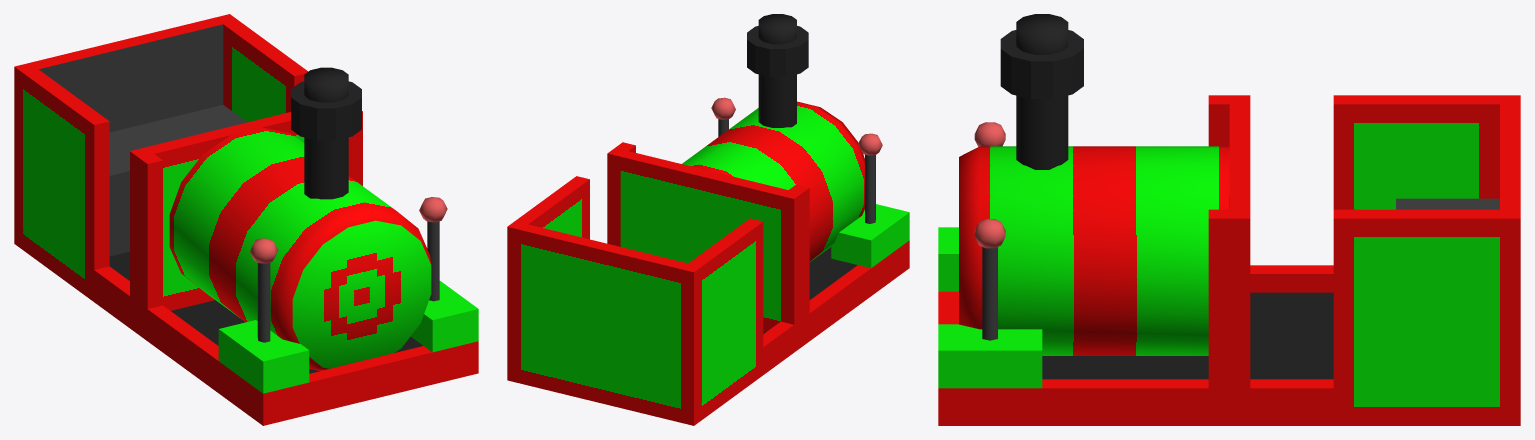
Rendered from car1.glb.
3 views of the same model, side by side, from view 1: azimuth 30°, elevation 25°; view 2: azimuth 150°, elevation 25°; view 3: azimuth 270°, elevation 25° (orthographic). The views are drawn at different scales.
Parts seen in each view (by area): view 1: boiler, back (×3), middle (×3), front, cube (×2), seat-back, footer-front, vent, bottom, base, cylinder (×2), footer-back (+2 smaller); view 2: back (×3), middle (×3), boiler, footer-front, cube, vent, bottom, base, footer-back, top, sphere (×2), cylinder; view 3: back (×3), boiler, middle (×3), footer-front, base, cube (×2), footer-back (×2), vent, bottom, top, cylinder, sphere (×2) (+2 smaller).
Part boxes in pixels (box(x1,y1,x2,y2)): boiler: box(169, 127, 431, 370); back (×3): box(14, 14, 307, 301); middle (×3): box(130, 111, 362, 340); front: box(263, 341, 478, 425); cube (×2): box(218, 281, 478, 393); seat-back: box(109, 105, 246, 256); footer-front: box(147, 305, 263, 425); vent: box(291, 81, 361, 140); bottom: box(304, 137, 348, 199); base: box(109, 251, 422, 373); cylinder (×2): box(257, 221, 439, 342); footer-back: box(94, 266, 129, 327); back (×3): box(507, 176, 763, 425); middle (×3): box(607, 142, 809, 352); boiler: box(682, 101, 864, 261); footer-front: box(809, 240, 909, 340); cube: box(831, 204, 909, 268); vent: box(747, 26, 808, 76); bottom: box(758, 74, 796, 127); base: box(763, 247, 857, 333); footer-back: box(763, 321, 794, 374); top: box(758, 14, 796, 44); sphere (×2): box(711, 97, 882, 155); cylinder: box(865, 154, 875, 223); back (×3): box(1333, 95, 1520, 425); boiler: box(959, 146, 1229, 355); middle (×3): box(1208, 95, 1250, 425); footer-front: box(938, 379, 1208, 425); base: box(1042, 292, 1333, 379); cube (×2): box(938, 227, 1042, 388); footer-back (×2): box(1250, 265, 1333, 425); vent: box(1000, 30, 1083, 98); bottom: box(1016, 95, 1068, 169); top: box(1016, 14, 1068, 54); cylinder: box(982, 247, 997, 340); sphere (×2): box(974, 122, 1005, 248).
Size of the model in its own units: 0.875 by 1.12 by 1.75.
1 material, 1 textured.
